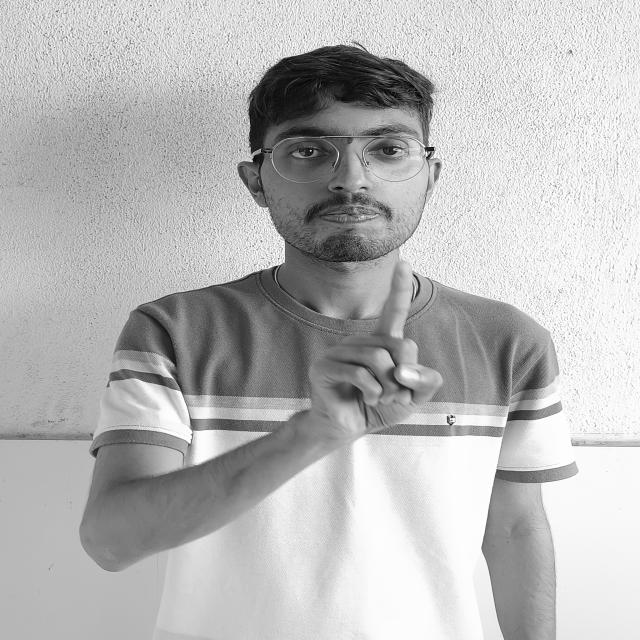Question: (279, 252, 475, 443)
